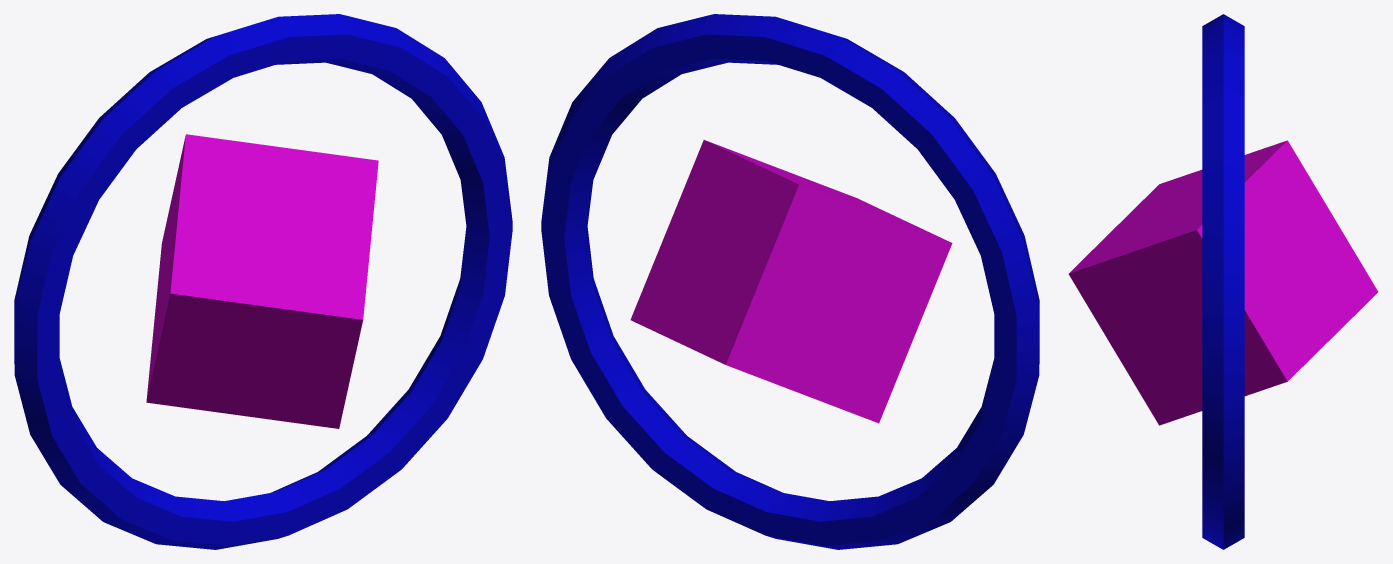
Rendered from PowerUp_DamageBooster.fbx.
3 renders of one model, left to right at view 1: azimuth 30°, elevation 25°; view 2: azimuth 150°, elevation 25°; view 3: azimuth 270°, elevation 25°, orthographic. The views are drawn at different scales.
Visible parts, largest first — view 1: pTorus1, pCube1; view 2: pTorus1, pCube1; view 3: pCube1, pTorus1.
Boxes of the visible parts, x1,y1,x2,y2 form: pTorus1: (14, 14, 512, 549); pCube1: (146, 134, 378, 428); pTorus1: (541, 14, 1039, 549); pCube1: (630, 140, 952, 423); pCube1: (1068, 140, 1378, 425); pTorus1: (1202, 14, 1244, 549).
Size of the model in its own units: 3.83 by 3.84 by 2.22.
